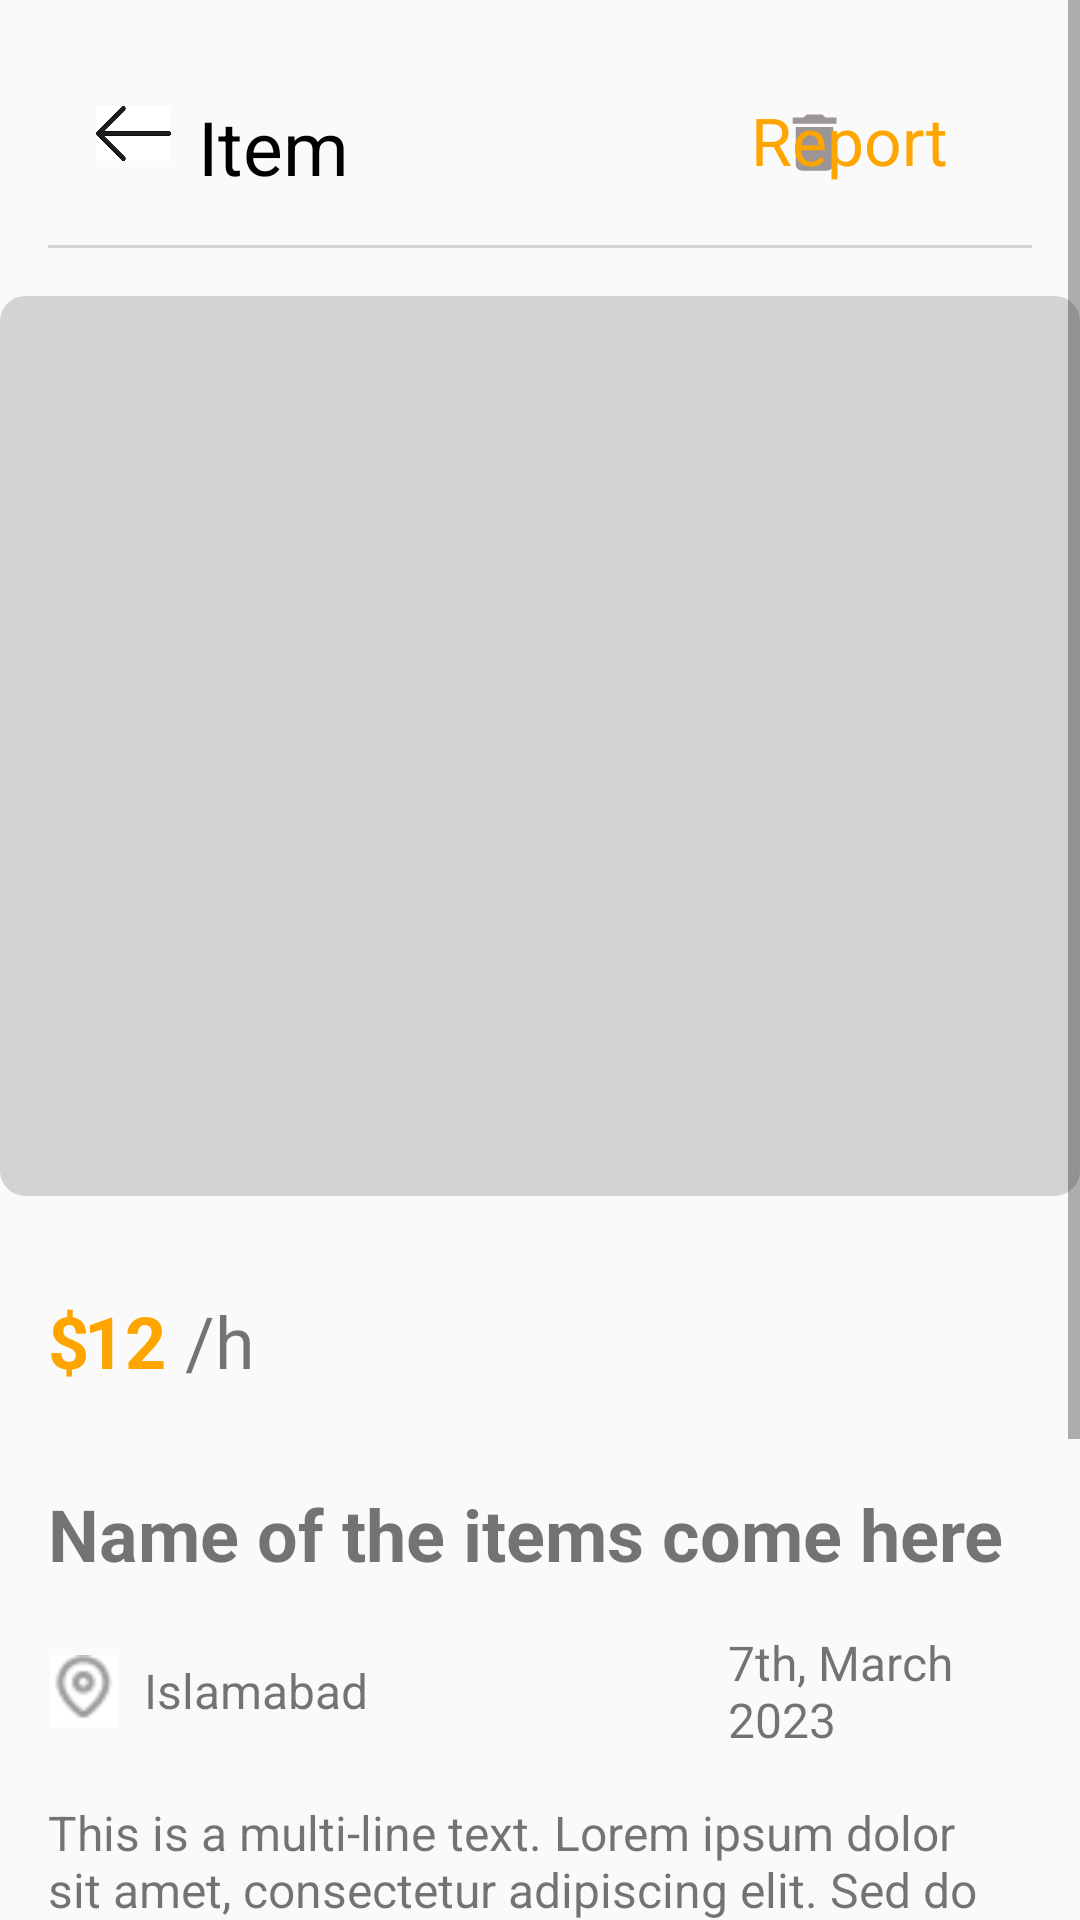

Icon click points for this 1080px×1920px phone screenshot, format point (x, y):
backarrow: point (133, 133)
loc: point (83, 1686)
